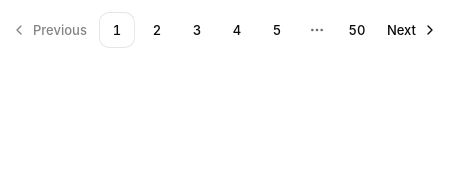
Test: Pagination › closes the field on Escape and returns focus
Click the button named "More pages, go to page" at x=317, y=30, box [299,12,335,48]
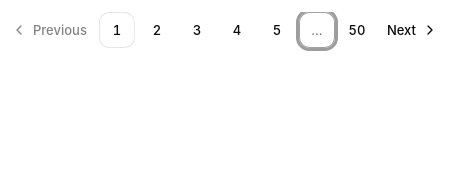
Press Escape in the field, box [299,12,335,48]
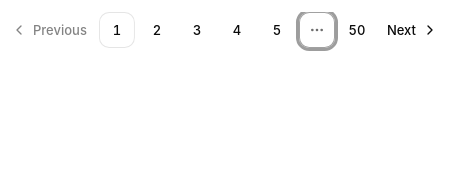
Now the field is gone
